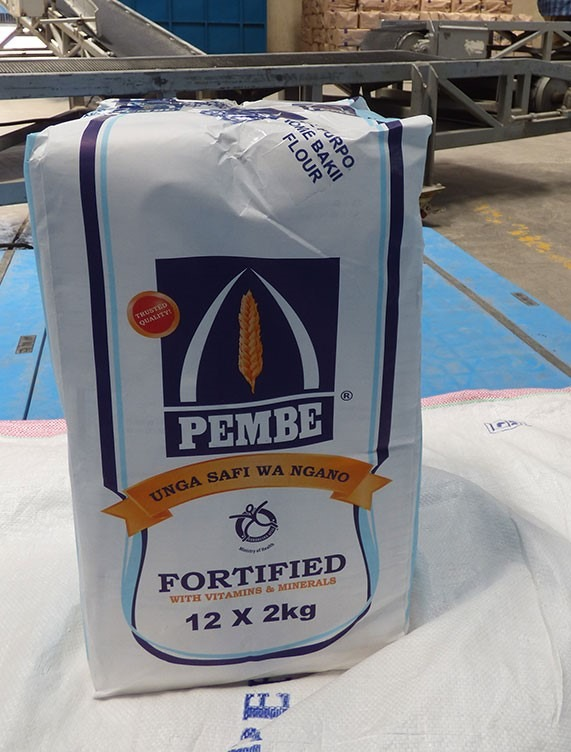wheat_flour_blue_label: (30, 102, 420, 687)
